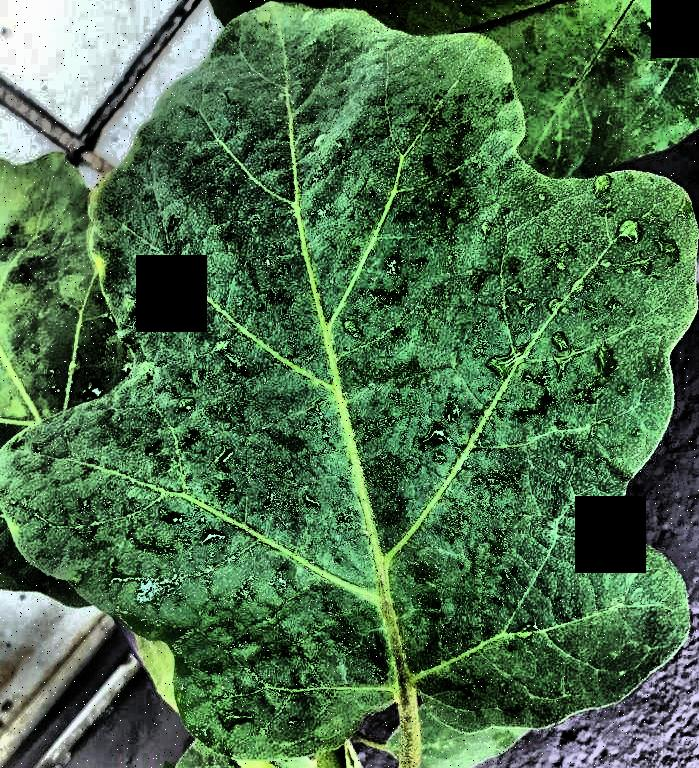HEALTHY: (1, 0, 699, 768)
